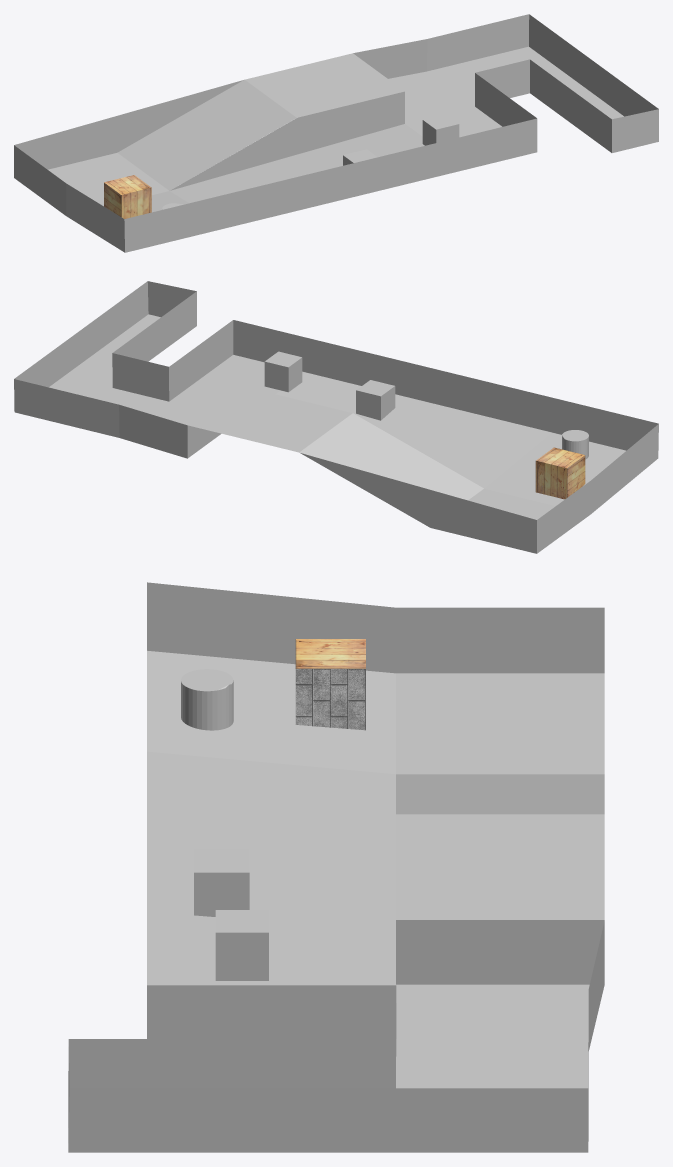
File: StageQuad.fbx
3 views of the same model, one above another, from view 1: azimuth 30°, elevation 25°; view 2: azimuth 150°, elevation 25°; view 3: azimuth 270°, elevation 25° (orthographic). The views are drawn at different scales.
Parts seen in each view (by area): view 1: Plane, Cube; view 2: Plane, Cube; view 3: Plane, Cube.
Part boxes in pixels (x1=…): Plane: x1=14, y1=14, x2=658, y2=252; Cube: x1=104, y1=175, x2=151, y2=218; Plane: x1=14, y1=281, x2=658, y2=553; Cube: x1=535, y1=447, x2=585, y2=499; Plane: x1=68, y1=582, x2=604, y2=1152; Cube: x1=295, y1=639, x2=365, y2=730.
Bounding box in the file's own units: 67.64 × 5.46 × 30.49.
